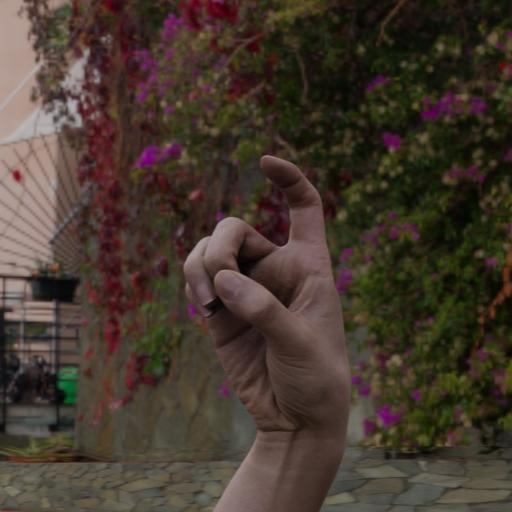X: (154, 135, 386, 510)
